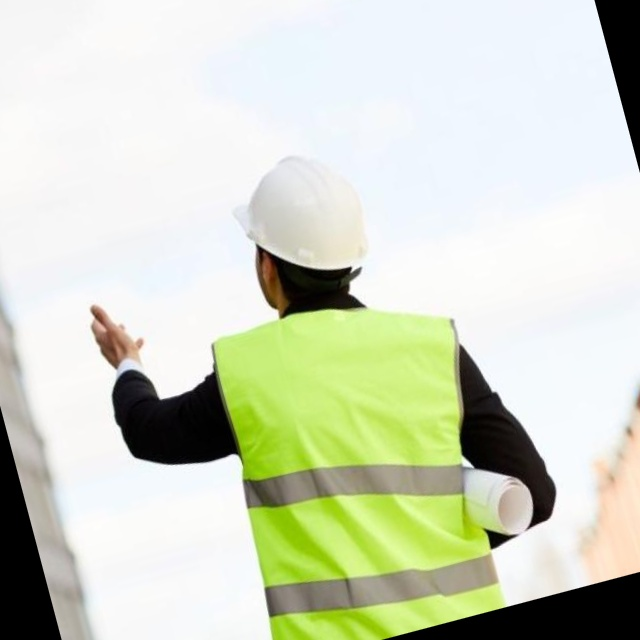Con_Casco: (222, 139, 385, 315)
Con_Chaleco: (191, 273, 522, 640)
